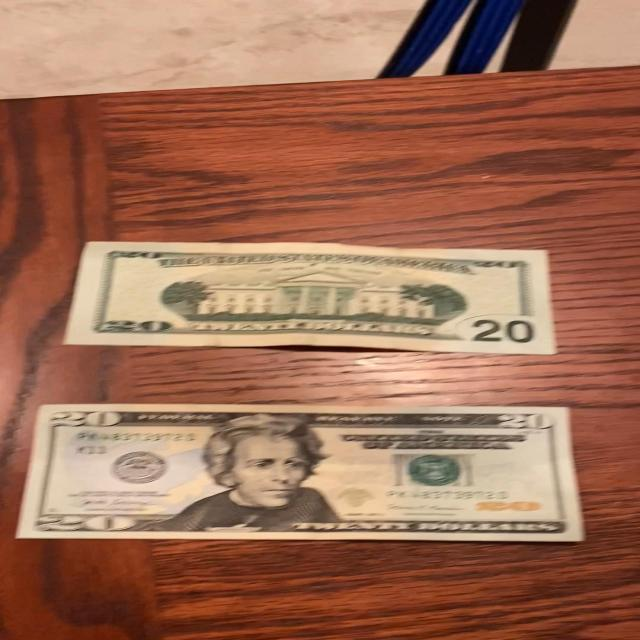20-Back: (57, 238, 558, 358)
20-Front: (22, 394, 596, 546)
